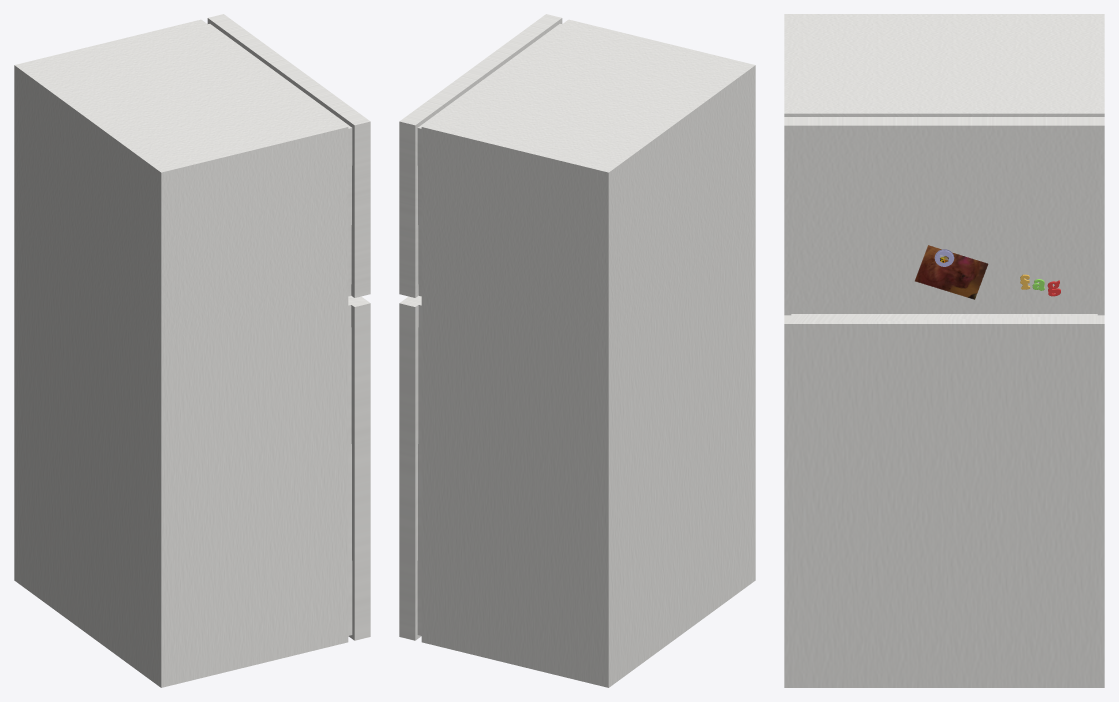
File: oldrefrigerator.fbx
3 renders of one model, left to right at view 1: azimuth 30°, elevation 25°; view 2: azimuth 150°, elevation 25°; view 3: azimuth 270°, elevation 25°, orthographic. The views are drawn at different scales.
Parts seen in each view (by area): view 1: fridge; view 2: fridge; view 3: fridge, picture.
Part boxes in pixels (x1=…): fridge: x1=14, y1=14, x2=370, y2=687; fridge: x1=399, y1=14, x2=755, y2=687; fridge: x1=784, y1=14, x2=1104, y2=687; picture: x1=915, y1=245, x2=988, y2=299.
Bounding box in the file's own units: 167 × 387 × 200.
